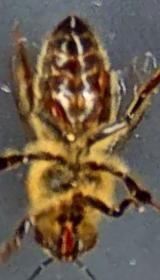varroa_mite: (41, 96, 68, 128), (92, 62, 115, 98)
